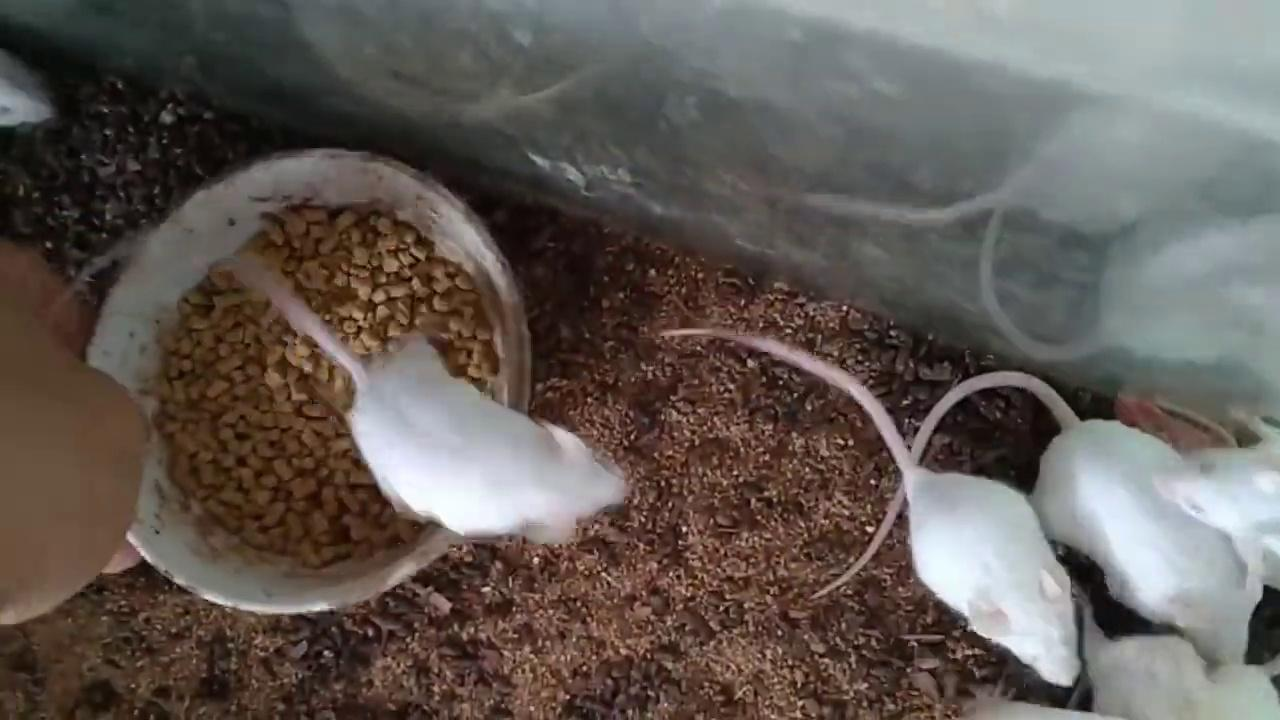rat: (58, 226, 631, 544), (660, 327, 1085, 686), (811, 371, 1265, 663), (1149, 410, 1280, 556), (0, 49, 55, 128)
